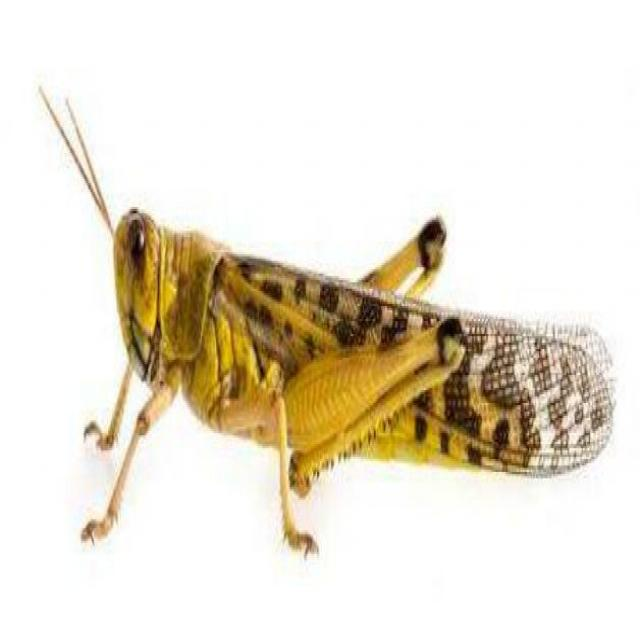ZhaMeng: (93, 159, 611, 588)
